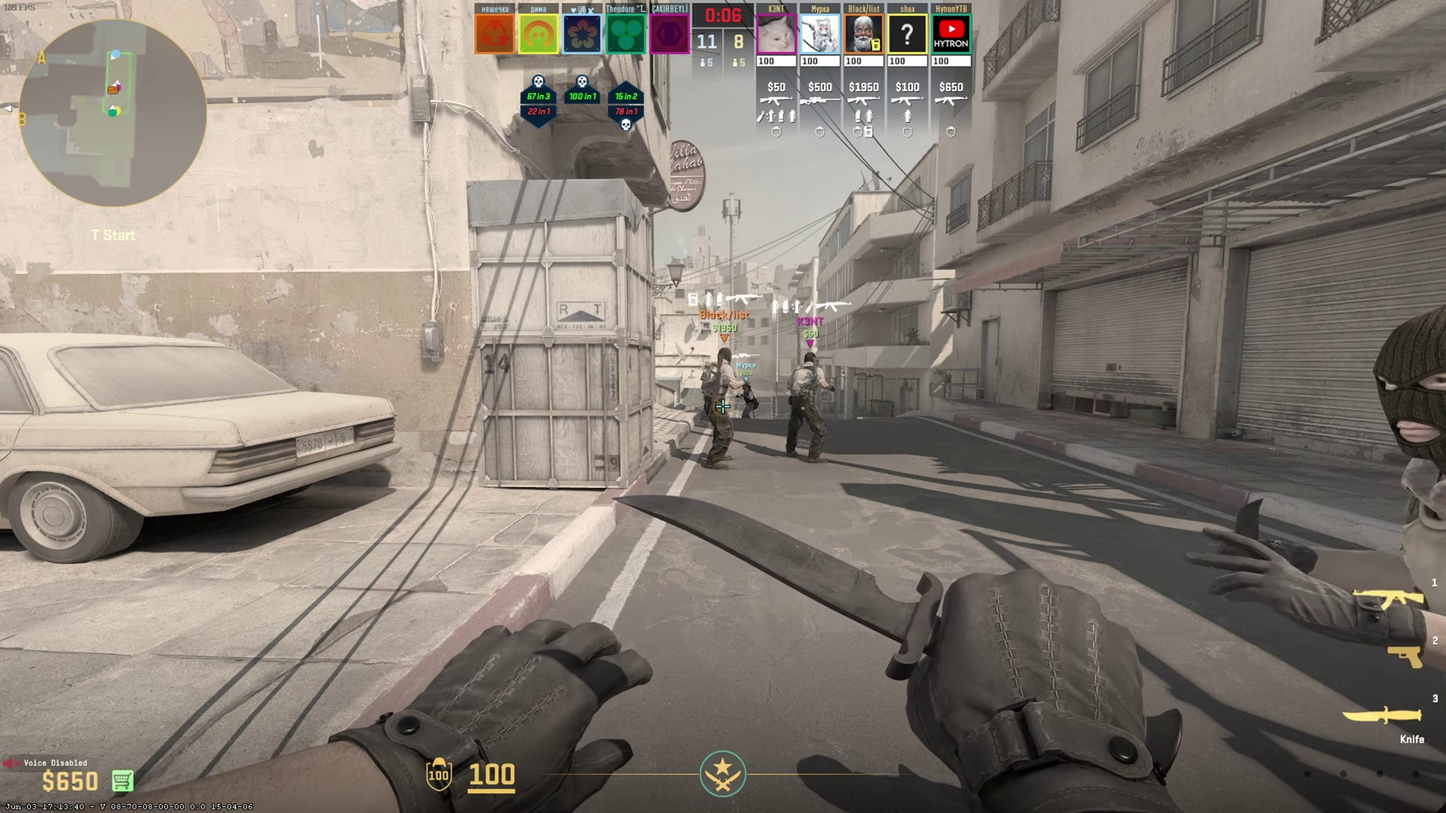Terrorist: (1351, 308, 1446, 749), (786, 352, 828, 463), (706, 348, 734, 470), (741, 385, 754, 418)
